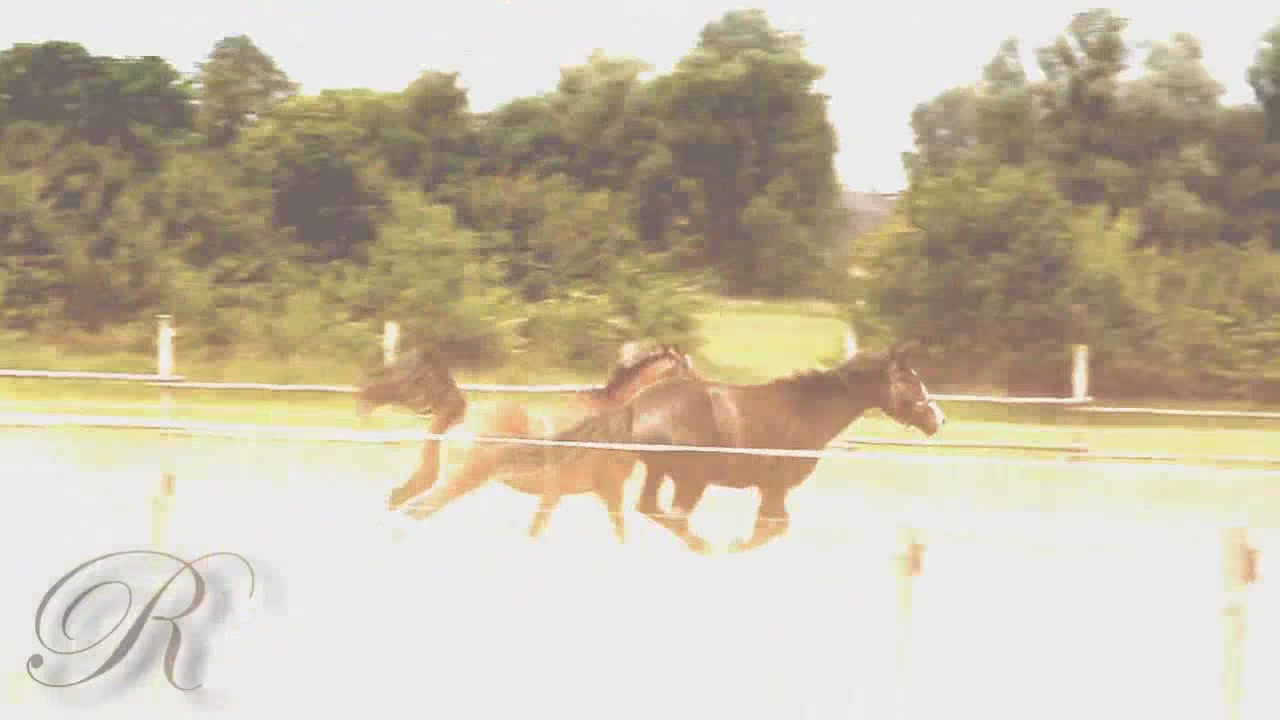horse: (529, 337, 948, 554), (402, 341, 696, 537)
